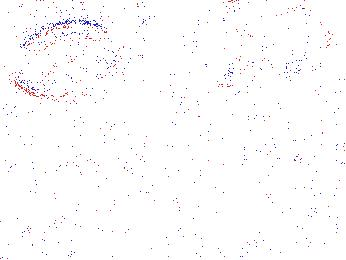moon jellyfish: (120, 7, 236, 88), (10, 22, 126, 99), (231, 11, 331, 68)
